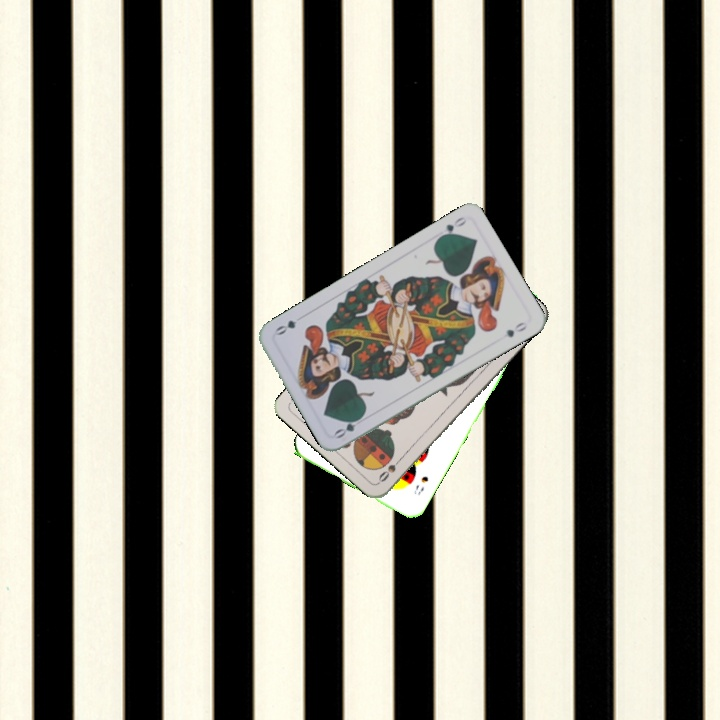GO: (330, 411, 368, 441), (434, 212, 469, 242)
S8: (410, 472, 431, 498)
SO: (374, 452, 406, 485)
